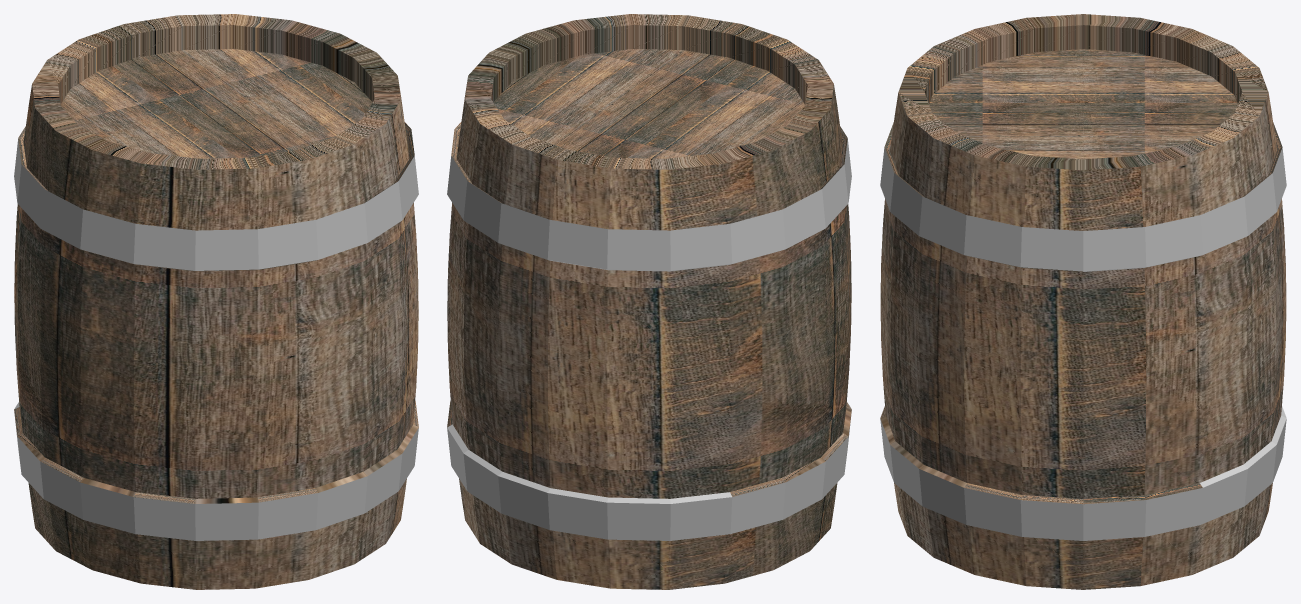
File: Barrel.fbx
3 renders of one model, left to right at view 1: azimuth 30°, elevation 25°; view 2: azimuth 150°, elevation 25°; view 3: azimuth 270°, elevation 25°, orthographic.
Parts seen in each view (by area): view 1: Barrel; view 2: Barrel; view 3: Barrel.
Boxes of the visible parts, <box> form: Barrel: <box>14,14,418,589</box>; Barrel: <box>447,14,851,589</box>; Barrel: <box>880,14,1286,589</box>.
Bounding box in the file's own units: 1.05 × 1.2 × 1.05.
